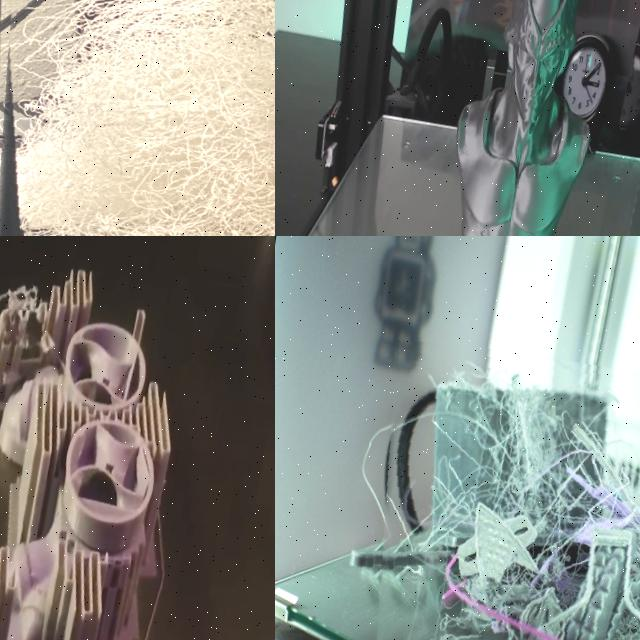spaghetti: (333, 334, 640, 640), (0, 267, 41, 316)
